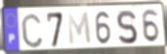6: (141, 9, 161, 45), (94, 10, 113, 46)
7: (46, 11, 64, 49)
C: (20, 12, 45, 50)
M: (66, 11, 93, 47)
S: (115, 9, 139, 46)
